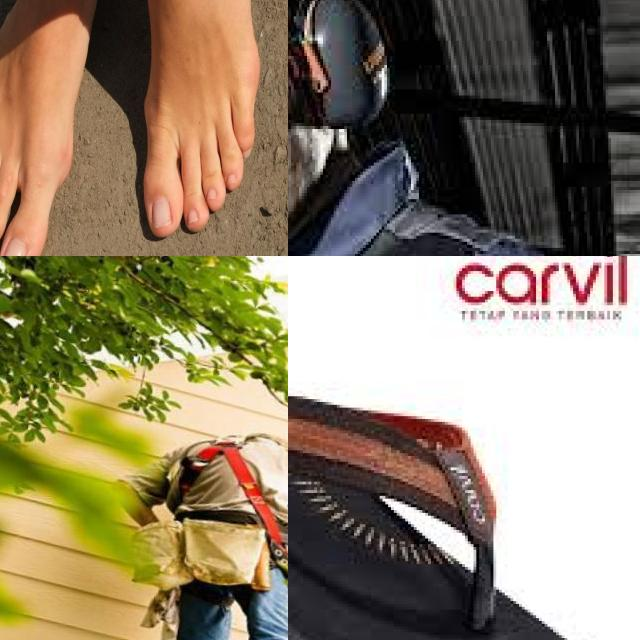Barefoots: (0, 0, 125, 256), (143, 0, 260, 238)
Ear-protection: (288, 0, 406, 139)
Harness: (179, 442, 284, 548)
Sandals: (288, 262, 620, 640)
